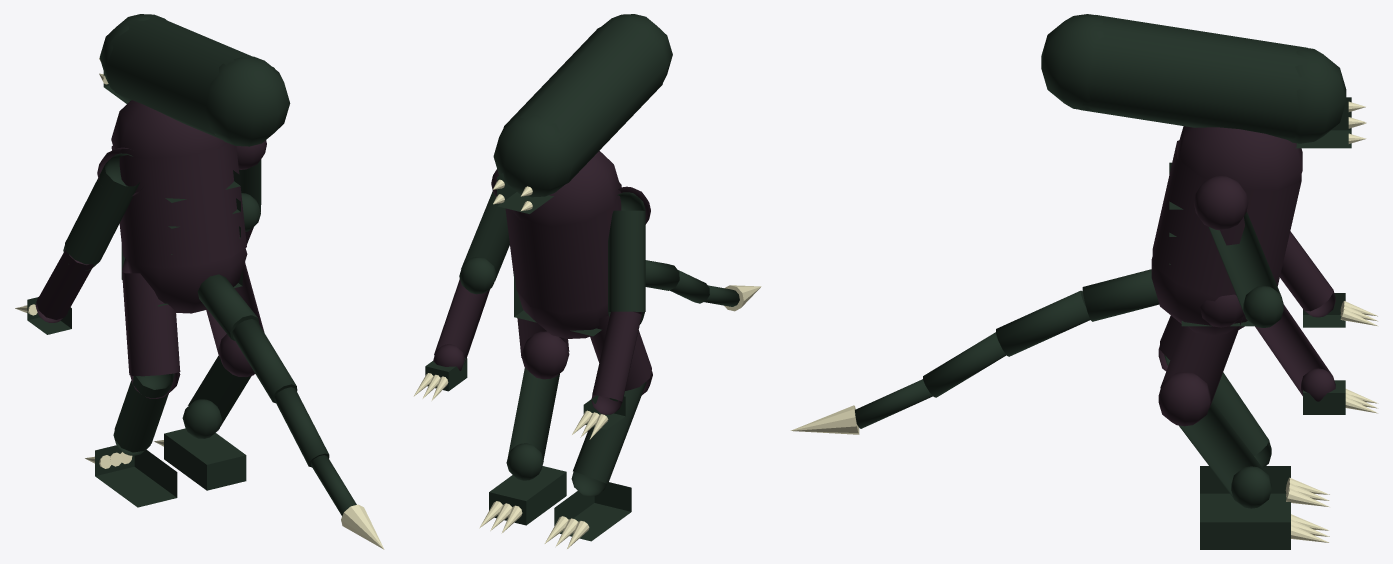
The model's file is Alien_Normal.obj.
3 renders of one model, left to right at view 1: azimuth 30°, elevation 25°; view 2: azimuth 150°, elevation 25°; view 3: azimuth 270°, elevation 25°, orthographic. The views are drawn at different scales.
Parts seen in each view (by area): view 1: Alien_Normal; view 2: Alien_Normal; view 3: Alien_Normal.
Boxes of the visible parts, x1,y1,x2,y2 form: Alien_Normal: (15, 14, 384, 549); Alien_Normal: (413, 14, 761, 548); Alien_Normal: (790, 14, 1378, 549).
Bounding box in the file's own units: 0.8 × 1.83 × 1.94.
